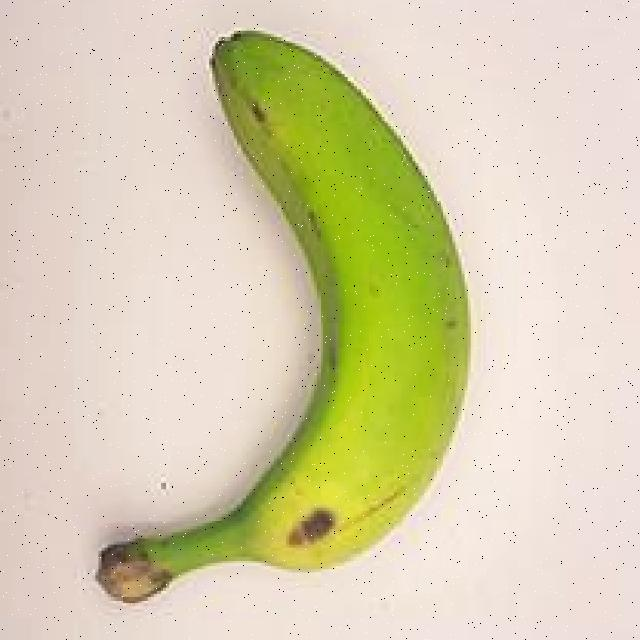Unripe: (61, 27, 498, 640)
